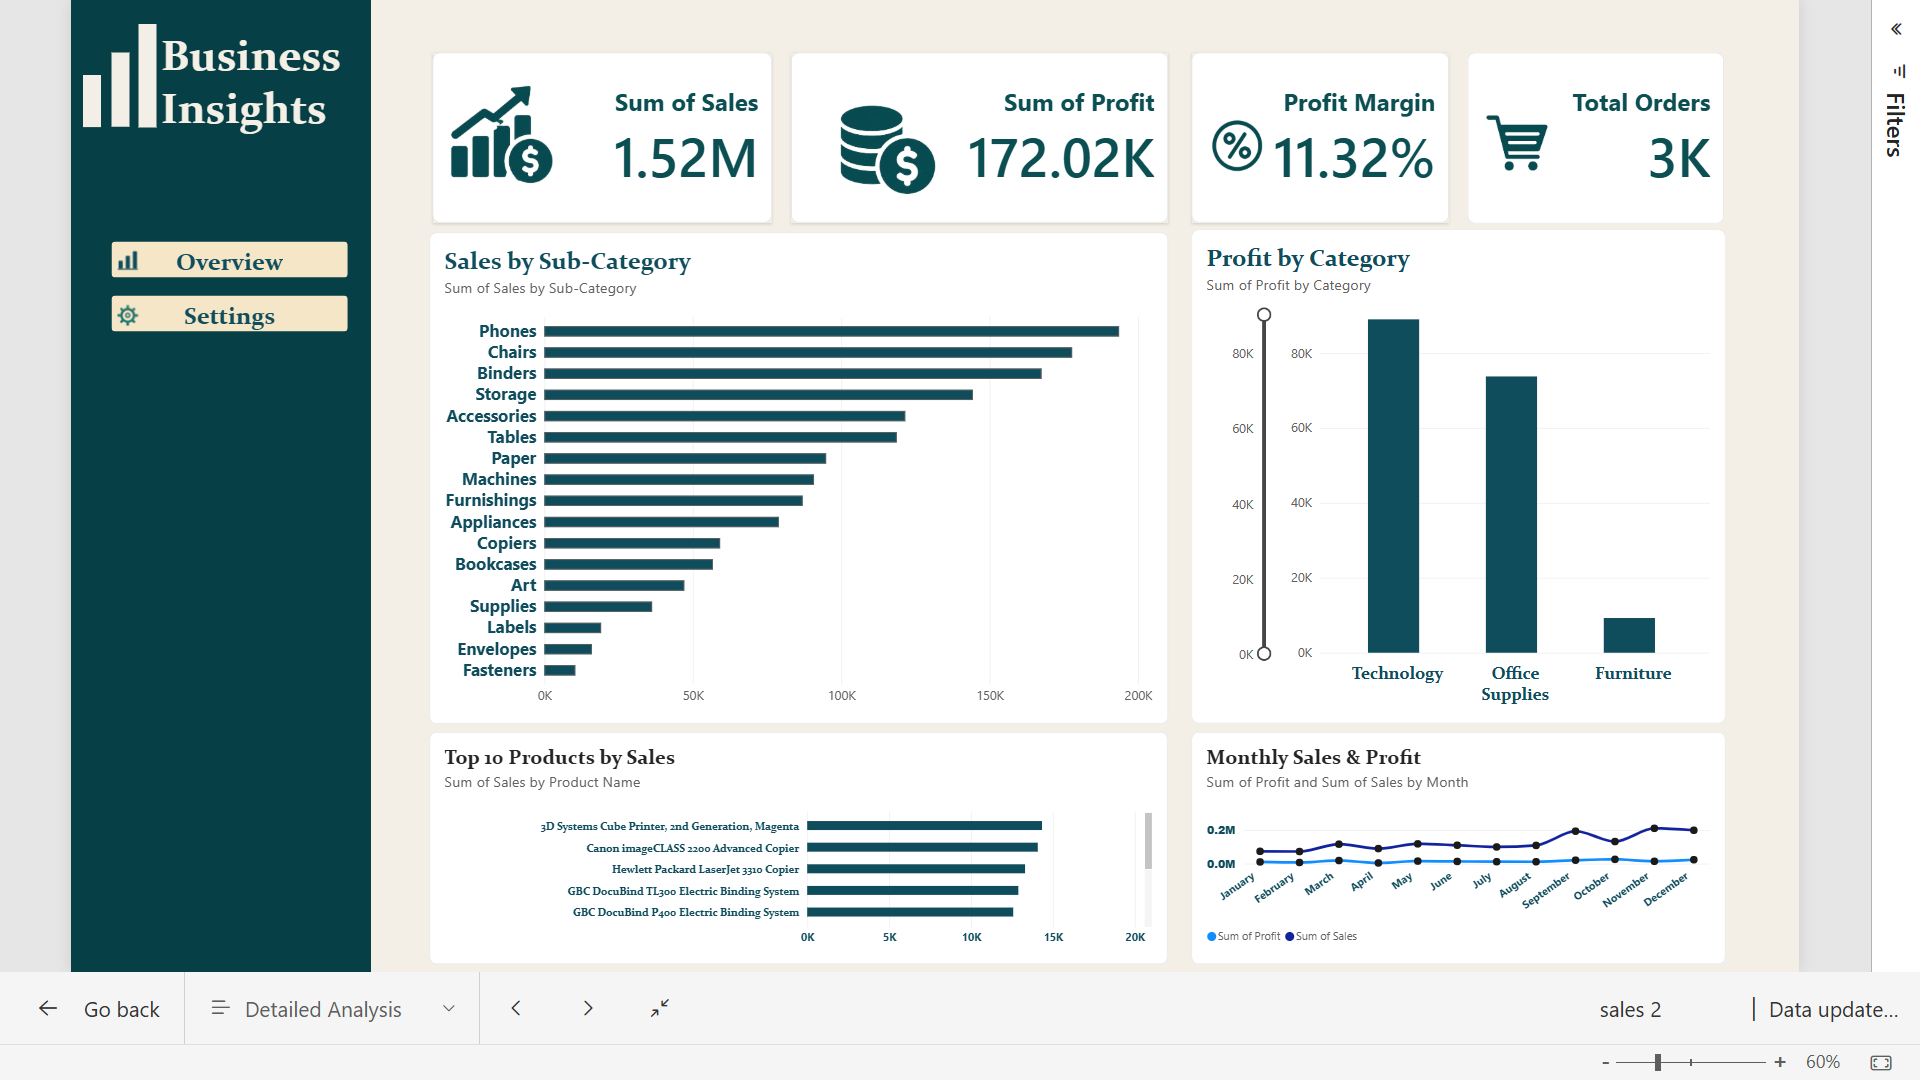

This screenshot's page, from the dashboard's own definition file:
{"tool":"powerbi","page":{"name":"Detailed Analysis","canvas":[1920,1080],"ordinal":1},"visuals":[{"type":"shape","box":[0,0,333.3,1080],"z":0},{"type":"actionButton","box":[45.2,328.2,262.5,40],"z":1},{"type":"shape","box":[13.7,83.2,20,57.9],"z":2},{"type":"shape","box":[45,57.5,20,82.5],"z":3},{"type":"shape","box":[74.4,25.9,20,115],"z":4},{"type":"textbox","box":[99.3,31.4,233.6,117.9],"z":5},{"type":"actionButton","box":[45,267.5,262.5,40],"z":6},{"type":"cardVisual","fields":{"Data":["Sum(Cleaned Data.Sales)"]},"box":[400.9,58.6,377.5,189.9],"z":7},{"type":"cardVisual","fields":{"Data":["Sum(Cleaned Data.Profit)"]},"box":[799.5,58.6,419.7,189.9],"z":8},{"type":"cardVisual","fields":{"Data":["Cleaned Data.Profit Margin"]},"box":[1244.9,58.6,286,189.9],"z":9},{"type":"cardVisual","fields":{"Data":["Cleaned Data.Total Orders"]},"box":[1552,58.6,285,190],"z":10},{"type":"image","box":[367.5,45,220.4,204],"z":11},{"type":"image","box":[778.4,61,255.5,206.3],"z":12},{"type":"image","box":[1219.1,105.5,150,112.5],"z":13},{"type":"image","box":[1519.2,98.5,175.8,119.6],"z":14},{"type":"clusteredBarChart","title":"Sales by Sub-Category","fields":{"Category":["Cleaned Data.Sub-Category"],"Y":["Sum(Cleaned Data.Sales)"]},"box":[398.6,257.9,820.6,546.3],"z":15},{"type":"clusteredColumnChart","title":"Profit by Category","fields":{"Category":["Cleaned Data.Category"],"Y":["Sum(Cleaned Data.Profit)"]},"box":[1244.9,255.5,593.2,548.6],"z":16},{"type":"clusteredBarChart","title":"Top 10 Products by Sales","fields":{"Category":["Cleaned Data.Product Name"],"Y":["Sum(Cleaned Data.Sales)"]},"box":[398,814,820,258],"z":17},{"type":"lineChart","title":"Monthly Sales & Profit","fields":{"Category":["Cleaned Data.Order Date.Variation.Date Hierarchy.Month"],"Y":["Sum(Cleaned Data.Profit)","Sum(Cleaned Data.Sales)"]},"box":[1245,814,593,258],"z":18}]}

Visuals, with their boxes on the page's 1920x1080 design canvas (x1, y1, x2, y2). These are canvas units, not pixel positions in the 1920x1080 screenshot, which may show the page scaled, cropped or inside an application window:
shape: bbox=(0, 0, 333, 1080)
actionButton: bbox=(45, 328, 308, 368)
shape: bbox=(14, 83, 34, 141)
shape: bbox=(45, 58, 65, 140)
shape: bbox=(74, 26, 94, 141)
textbox: bbox=(99, 31, 333, 149)
actionButton: bbox=(45, 268, 308, 308)
cardVisual - Sum(Cleaned Data.Sales): bbox=(401, 59, 778, 248)
cardVisual - Sum(Cleaned Data.Profit): bbox=(800, 59, 1219, 248)
cardVisual - Cleaned Data.Profit Margin: bbox=(1245, 59, 1531, 248)
cardVisual - Cleaned Data.Total Orders: bbox=(1552, 59, 1837, 249)
image: bbox=(368, 45, 588, 249)
image: bbox=(778, 61, 1034, 267)
image: bbox=(1219, 106, 1369, 218)
image: bbox=(1519, 98, 1695, 218)
"Sales by Sub-Category" clusteredBarChart: bbox=(399, 258, 1219, 804)
"Profit by Category" clusteredColumnChart: bbox=(1245, 256, 1838, 804)
"Top 10 Products by Sales" clusteredBarChart: bbox=(398, 814, 1218, 1072)
"Monthly Sales & Profit" lineChart: bbox=(1245, 814, 1838, 1072)
